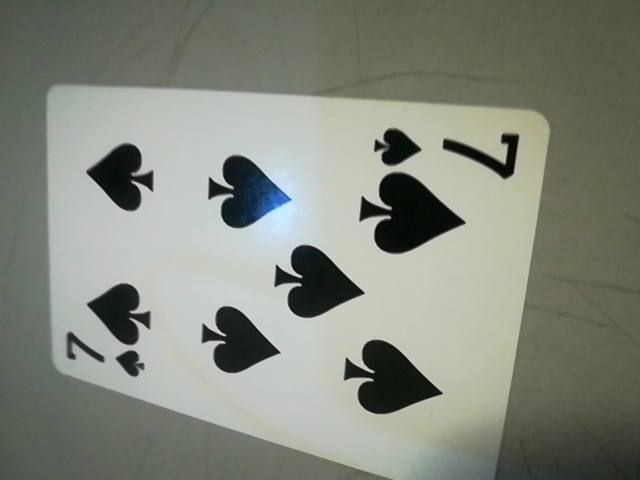ht 7: (369, 119, 531, 180)
